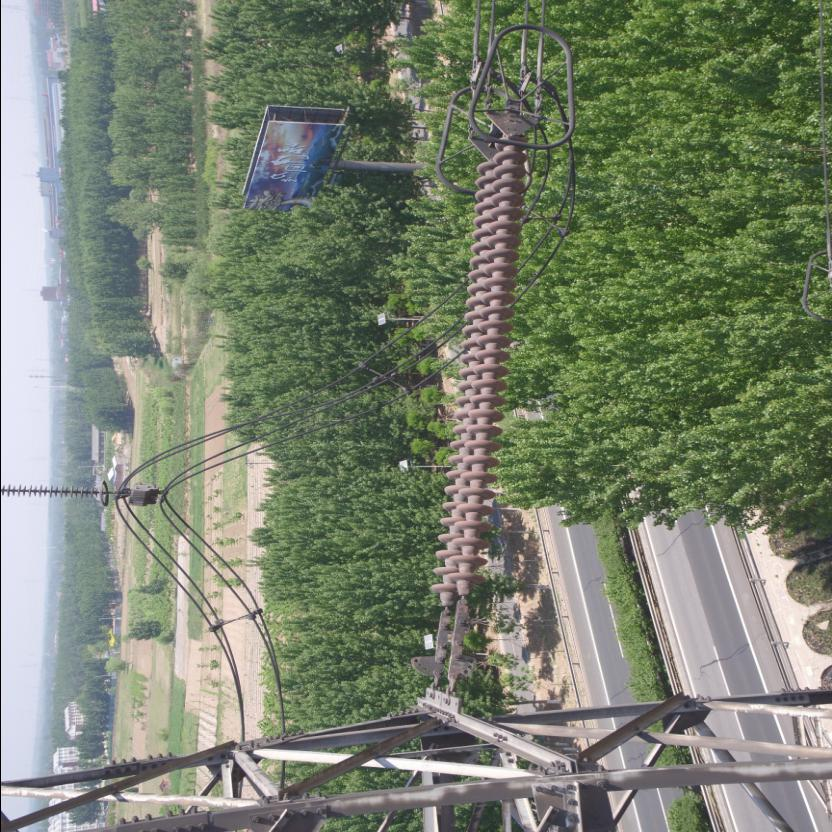insulator: (424, 122, 531, 637)
